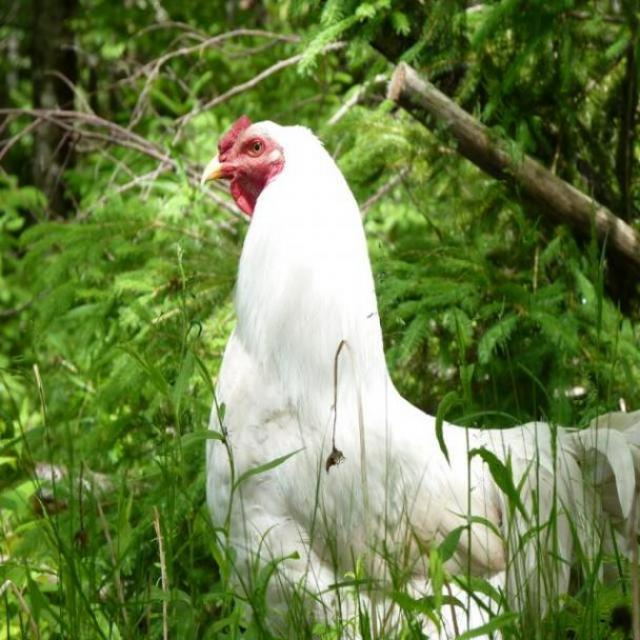Chicken: (200, 112, 640, 640)
